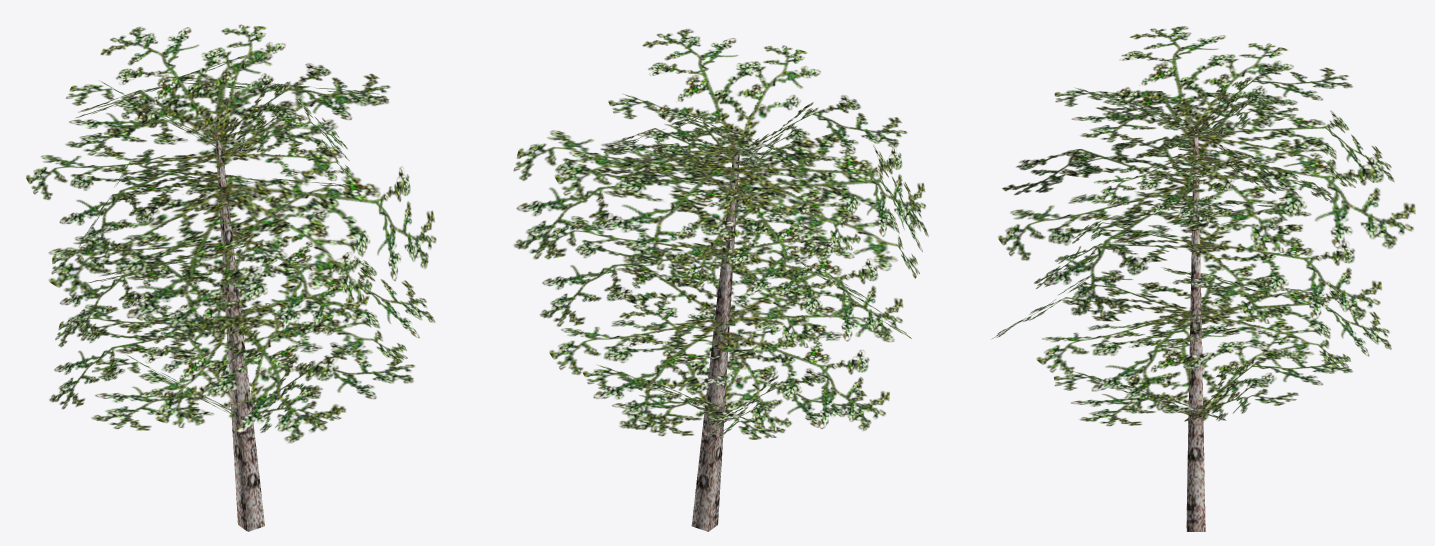
File: Environment - Vegetation - Tree Cherry Blossom 02 - PTDogwod07.glb
3 views of the same model, side by side, from view 1: azimuth 30°, elevation 25°; view 2: azimuth 150°, elevation 25°; view 3: azimuth 270°, elevation 25° (orthographic). The views are drawn at different scales.
Parts seen in each view (by area): view 1: PTDOGWOD07; view 2: PTDOGWOD07; view 3: PTDOGWOD07.
Boxes of the visible parts, bbox=[...] form: PTDOGWOD07: bbox=[26, 24, 436, 531]; PTDOGWOD07: bbox=[513, 29, 928, 531]; PTDOGWOD07: bbox=[991, 26, 1415, 531].
Size of the model in its own units: 34.78 by 38.24 by 35.62.
1 material, 1 textured.
